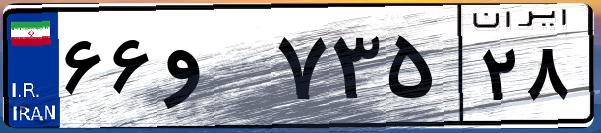2: (475, 38, 525, 113)
3: (330, 28, 385, 110)
5: (385, 28, 445, 110)
6: (57, 26, 110, 100), (110, 28, 158, 98)
7: (270, 28, 330, 110)
8: (525, 38, 570, 115)
و: (158, 20, 270, 120)
